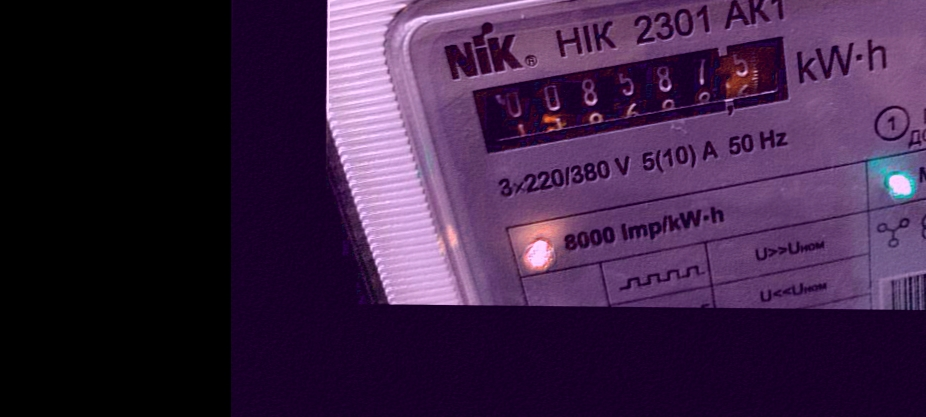0: (539, 80, 566, 114), (501, 87, 528, 120)
5: (615, 67, 639, 99), (730, 47, 752, 78)
6: (734, 82, 753, 99)
7: (690, 55, 713, 89)
8: (578, 76, 603, 108), (652, 62, 676, 95)
screen: (464, 33, 812, 159)
